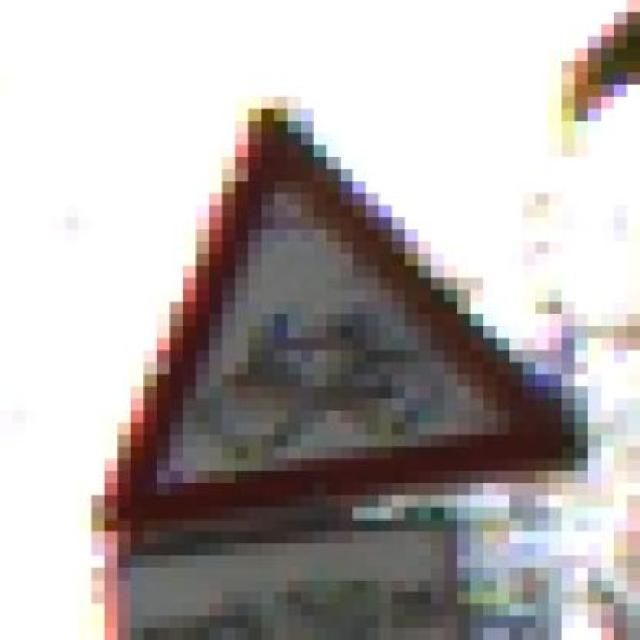CYCLE ROUTE AHEAD WARNING: (52, 96, 588, 507)
